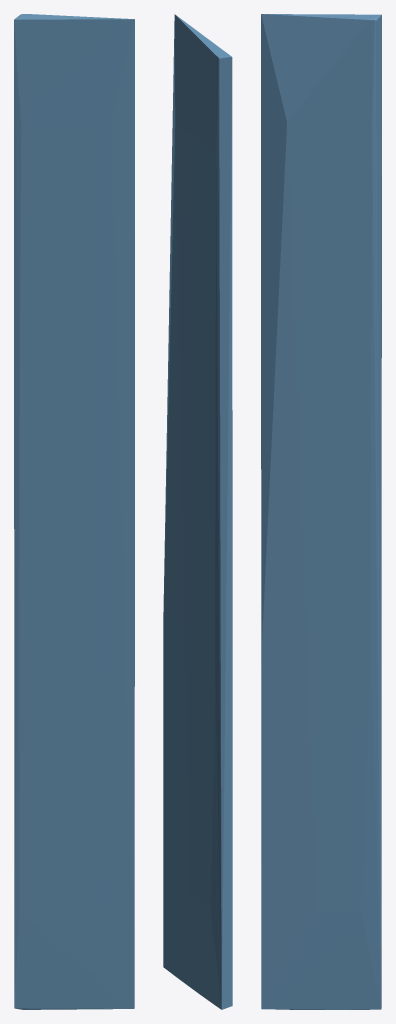
The model's file is blinds_window_4m_closed_a01.glb.
3 renders of one model, left to right at view 1: azimuth 90°, elevation 25°; view 2: azimuth 210°, elevation 25°; view 3: azimuth 270°, elevation 25°, orthographic. The views are drawn at different scales.
Parts seen in each view (by area): view 1: geometry_0; view 2: geometry_0; view 3: geometry_0.
Boxes of the visible parts, x1,y1,x2,y2 form: geometry_0: (14,14,134,1009); geometry_0: (163,14,232,1009); geometry_0: (261,14,381,1009).
Bounding box in the file's own units: 0.00678 × 0.4794 × 0.053.
